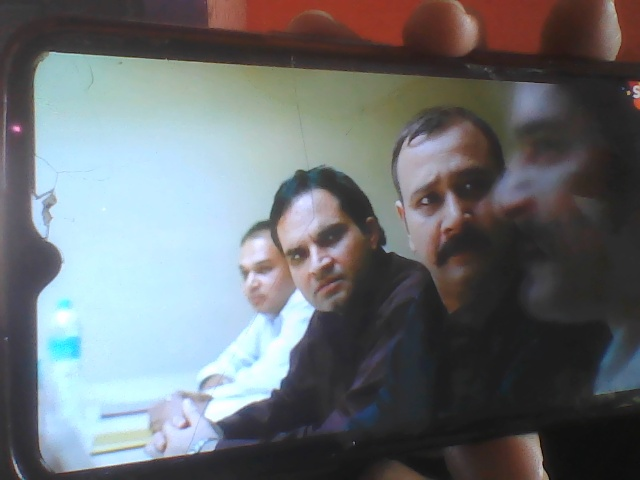fake: (390, 76, 554, 308), (260, 162, 381, 333)
